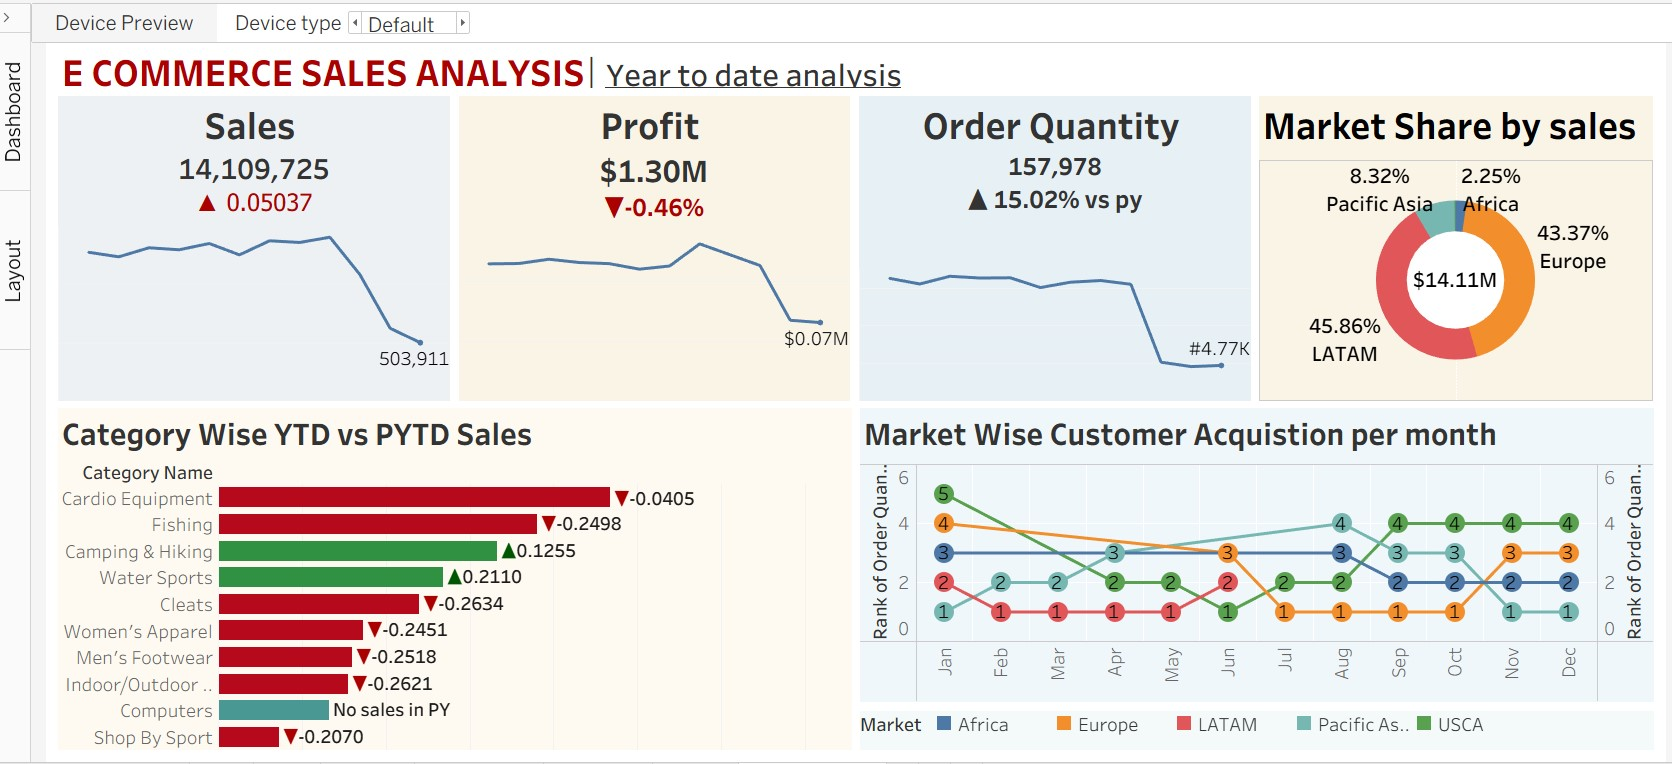

Layout of this report page (visuals, bound fields, positions):
{"tool":"tableau","page":{"name":"Dashboard 1","canvas":[1000,1000],"units":"permille","ordinal":0},"visuals":[{"type":"title","box":[4.9,11.4,990.1,57]},{"type":"worksheet","title":"sales","mark":"Automatic","rows":["Sales"],"cols":["Order Date"],"box":[4.9,68.4,247.2,434.5]},{"type":"worksheet","title":"profit","mark":"Automatic","rows":["Profit Per Order"],"cols":["Order Date"],"box":[252.2,68.4,247.2,434.5]},{"type":"worksheet","title":"orderqty","mark":"Automatic","rows":["Order Quantity"],"cols":["Order Date"],"box":[499.4,68.4,247.2,434.5]},{"type":"worksheet","title":"marketshare","mark":"Pie","cols":["Calculation_868913281993904141","Calculation_868913281993981967"],"box":[746.6,68.4,248.5,434.5]},{"type":"worksheet","title":"categories","mark":"Automatic","rows":["Category Name"],"cols":["YTD sales (copy)_868913281995063312"],"box":[4.9,502.9,495.1,485.8]},{"type":"worksheet","title":"Sheet 6","mark":"Automatic","cols":["Order Date"],"box":[500,502.9,495.1,420.2]},{"type":"legend","title":"Sheet 6","param":"[federated.0nprrd60tdvmoy16f54r10k6uic3].[none:Market:nk]","box":[500,923.1,495.1,65.5]}]}

Visuals, with their boxes on the dashboard's canvas, which has no fixed pixel size, in thousandths of its width and height (x1, y1, x2, y2). These are canvas units, not pixel positions in the 1672x764 screenshot, which may show the page scaled, cropped or inside an application window:
title: <region>5, 11, 995, 68</region>
"sales" worksheet: <region>5, 68, 252, 503</region>
"profit" worksheet: <region>252, 68, 499, 503</region>
"orderqty" worksheet: <region>499, 68, 747, 503</region>
"marketshare" worksheet (Pie marks): <region>747, 68, 995, 503</region>
"categories" worksheet: <region>5, 503, 500, 989</region>
"Sheet 6" worksheet: <region>500, 503, 995, 923</region>
"Sheet 6" legend: <region>500, 923, 995, 989</region>
